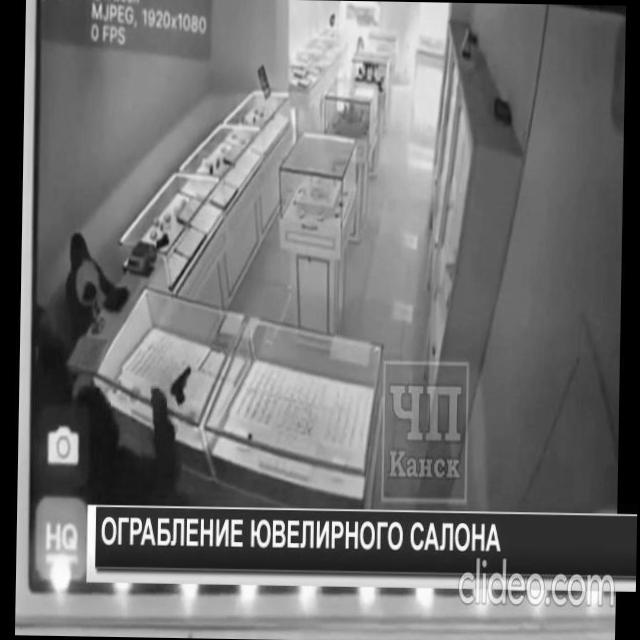gun: (168, 364, 194, 406)
